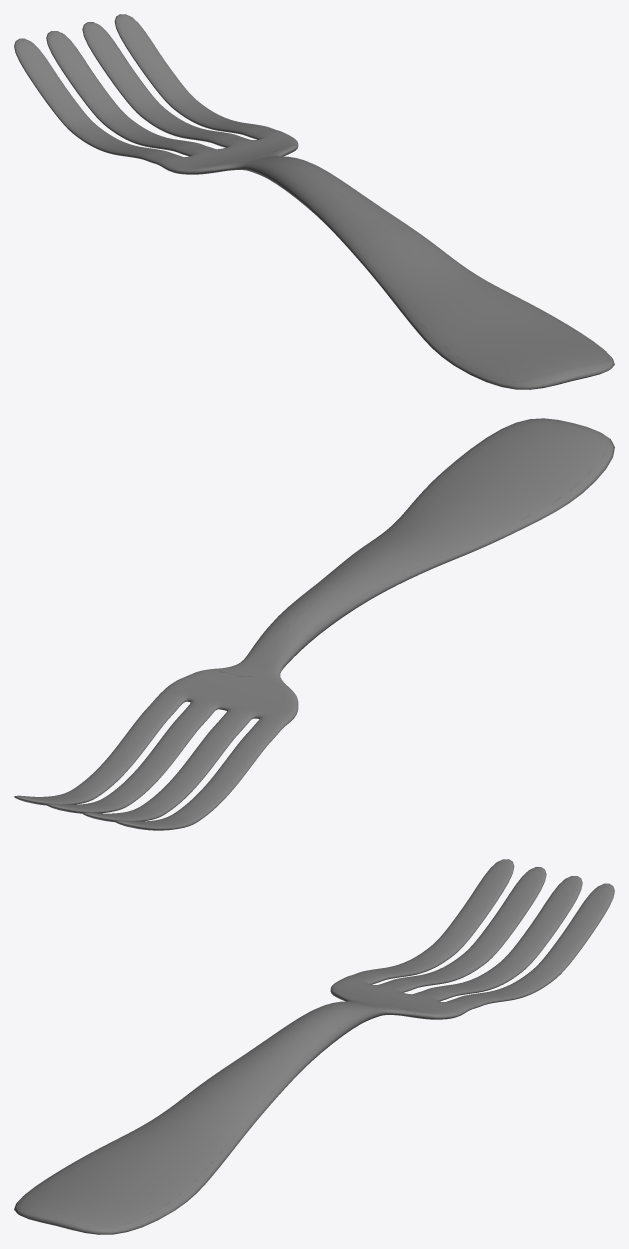
The model's file is fork.fbx.
The picture shows the model from 3 angles, top to bottom: view 1: azimuth 30°, elevation 25°; view 2: azimuth 150°, elevation 25°; view 3: azimuth 330°, elevation 25°; orthographic projection.
Parts seen in each view (by area): view 1: a_furchett; view 2: a_furchett; view 3: a_furchett.
Boxes of the visible parts, x1,y1,x2,y2 form: a_furchett: (14, 14, 614, 389); a_furchett: (14, 418, 614, 830); a_furchett: (14, 859, 614, 1234).
Bounding box in the file's own units: 274 × 158 × 1865.
